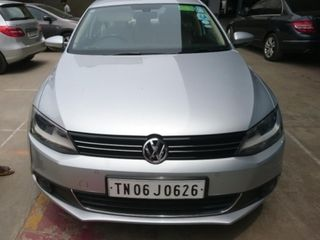T: (113, 181, 123, 194)
